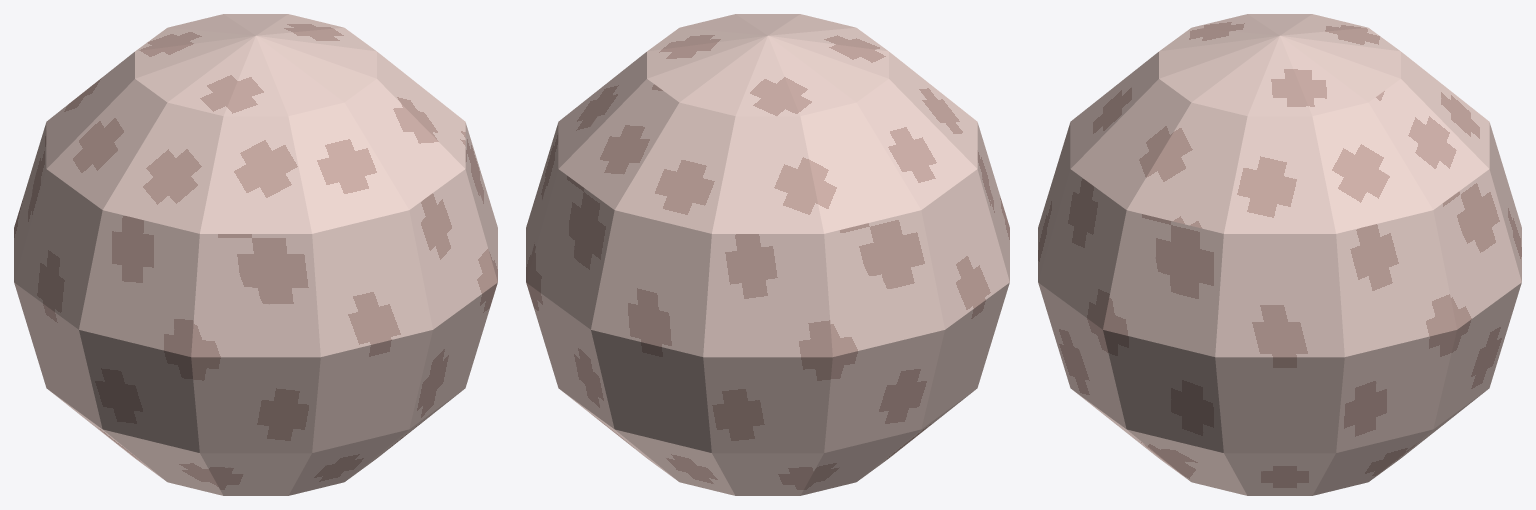
The model's file is ball.gltf.
The picture shows the model from 3 angles, left to right: view 1: azimuth 30°, elevation 25°; view 2: azimuth 150°, elevation 25°; view 3: azimuth 270°, elevation 25°; orthographic projection.
Parts seen in each view (by area): view 1: sphere; view 2: sphere; view 3: sphere.
Part boxes in pixels (bbox=[...]): sphere: bbox=[14, 14, 497, 495]; sphere: bbox=[526, 14, 1009, 495]; sphere: bbox=[1038, 14, 1521, 495].
Bounding box in the file's own units: 0.125 × 0.125 × 0.125.
1 material, 1 textured.
